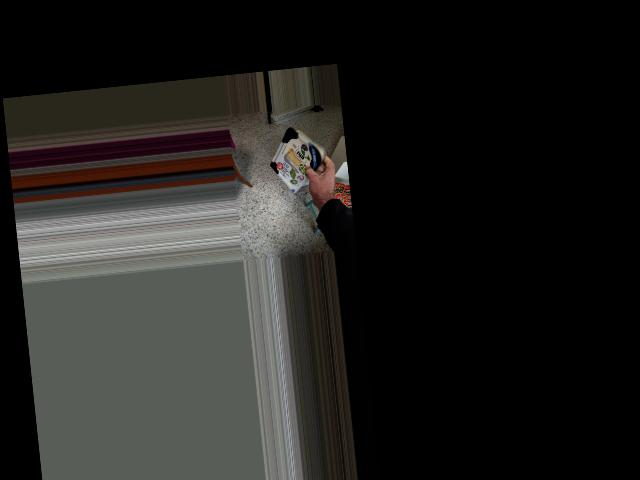cheese: (260, 124, 339, 185)
